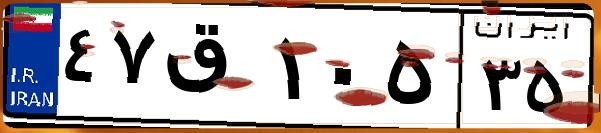0: (330, 28, 385, 110)
1: (270, 28, 330, 110)
3: (475, 38, 525, 113)
4: (57, 26, 110, 100)
5: (385, 28, 445, 110), (525, 38, 570, 115)
7: (110, 28, 158, 98)
ق: (158, 20, 270, 120)
